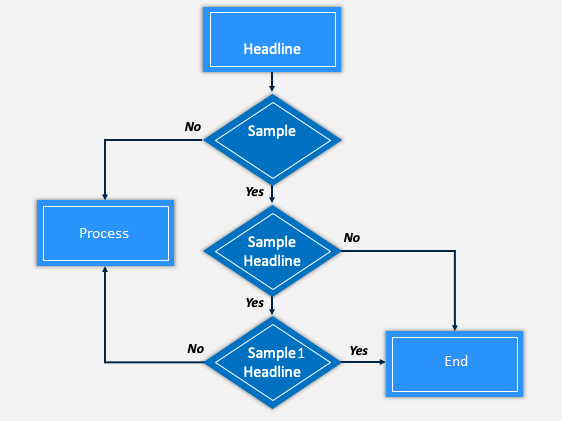arrow: (101, 267, 206, 365), (340, 247, 459, 331), (101, 137, 204, 200), (338, 358, 384, 367), (268, 293, 277, 317), (267, 72, 276, 94), (268, 184, 276, 207)
decision: (203, 316, 343, 410), (204, 205, 342, 299), (203, 93, 342, 186)
process: (33, 195, 177, 270), (383, 328, 526, 400), (199, 3, 345, 72)
text: (242, 343, 306, 379), (241, 234, 304, 268), (242, 40, 302, 56), (245, 123, 296, 139), (76, 226, 130, 239), (442, 353, 469, 367), (242, 184, 265, 200), (244, 295, 266, 309), (182, 342, 206, 354), (346, 344, 369, 356), (182, 120, 201, 134), (342, 230, 361, 244)
